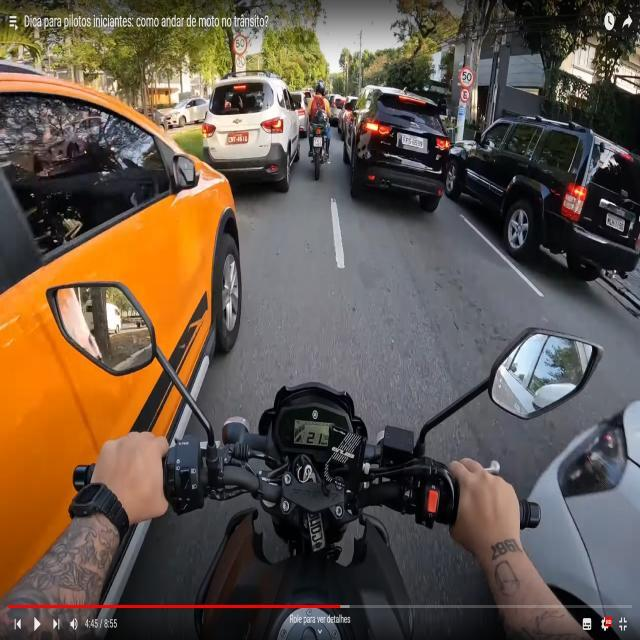placa_moto: (313, 135, 321, 149)
